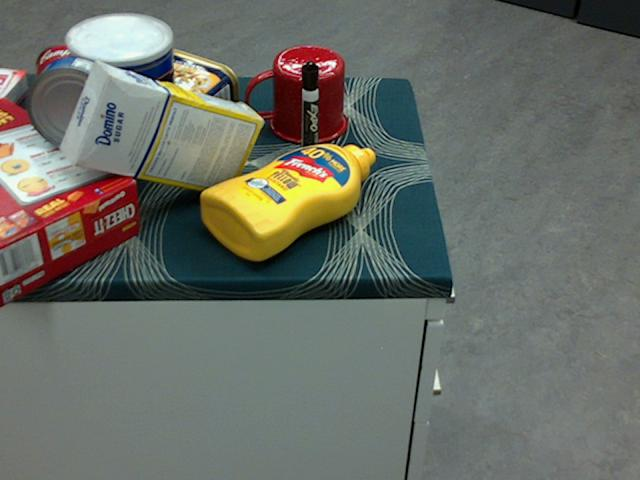cracker_box: (0, 98, 140, 302)
gelatin_box: (0, 68, 30, 128)
large_marker: (299, 60, 319, 167)
master_chef_can: (67, 14, 178, 181)
mug: (244, 45, 346, 144)
mustard_bottle: (200, 143, 375, 260)
potted_meat_can: (125, 49, 238, 138)
sugar_box: (60, 63, 263, 195)
tomato_soup_can: (34, 41, 98, 139)
tuna_fish_can: (26, 56, 123, 151)
